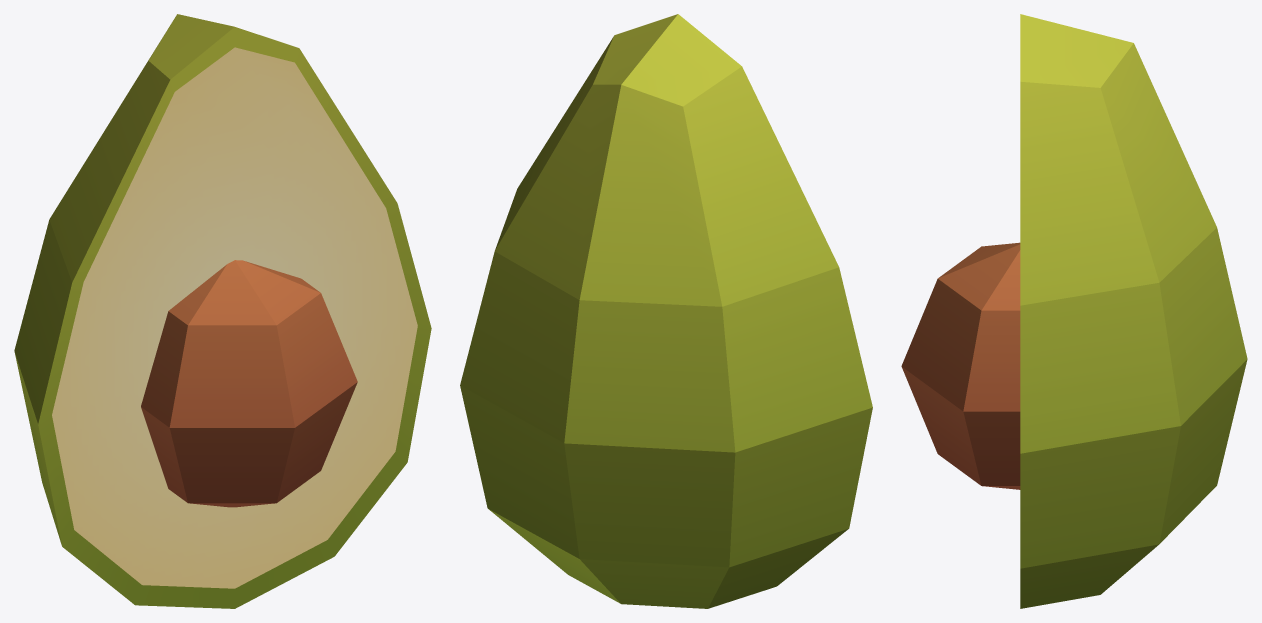
The model's file is Avocado Half.fbx.
3 views of the same model, side by side, from view 1: azimuth 30°, elevation 25°; view 2: azimuth 150°, elevation 25°; view 3: azimuth 270°, elevation 25° (orthographic).
Visible parts, largest first — view 1: Avocado Half; view 2: Avocado Half; view 3: Avocado Half.
Boxes of the visible parts, bbox=[...] form: Avocado Half: bbox=[14, 14, 431, 608]; Avocado Half: bbox=[460, 14, 872, 608]; Avocado Half: bbox=[901, 14, 1247, 608].
Size of the model in its own units: 13.19 by 18.65 by 10.19.
